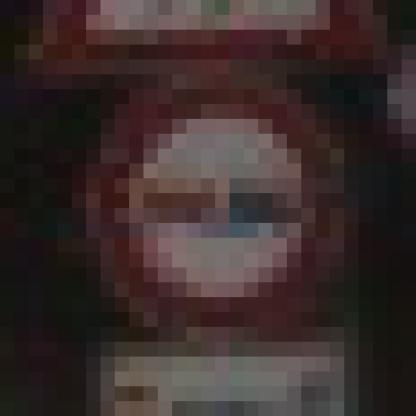No Overtaking: (87, 75, 331, 328)
